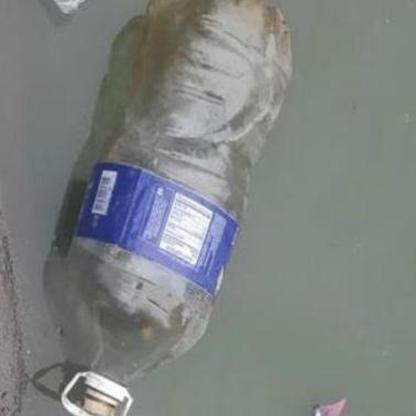plastic bottle: (62, 1, 294, 416)
